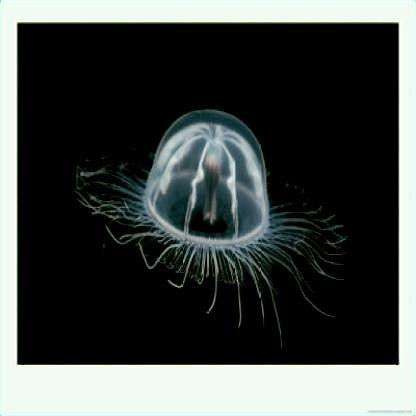FriedEggs: (75, 110, 351, 328)
